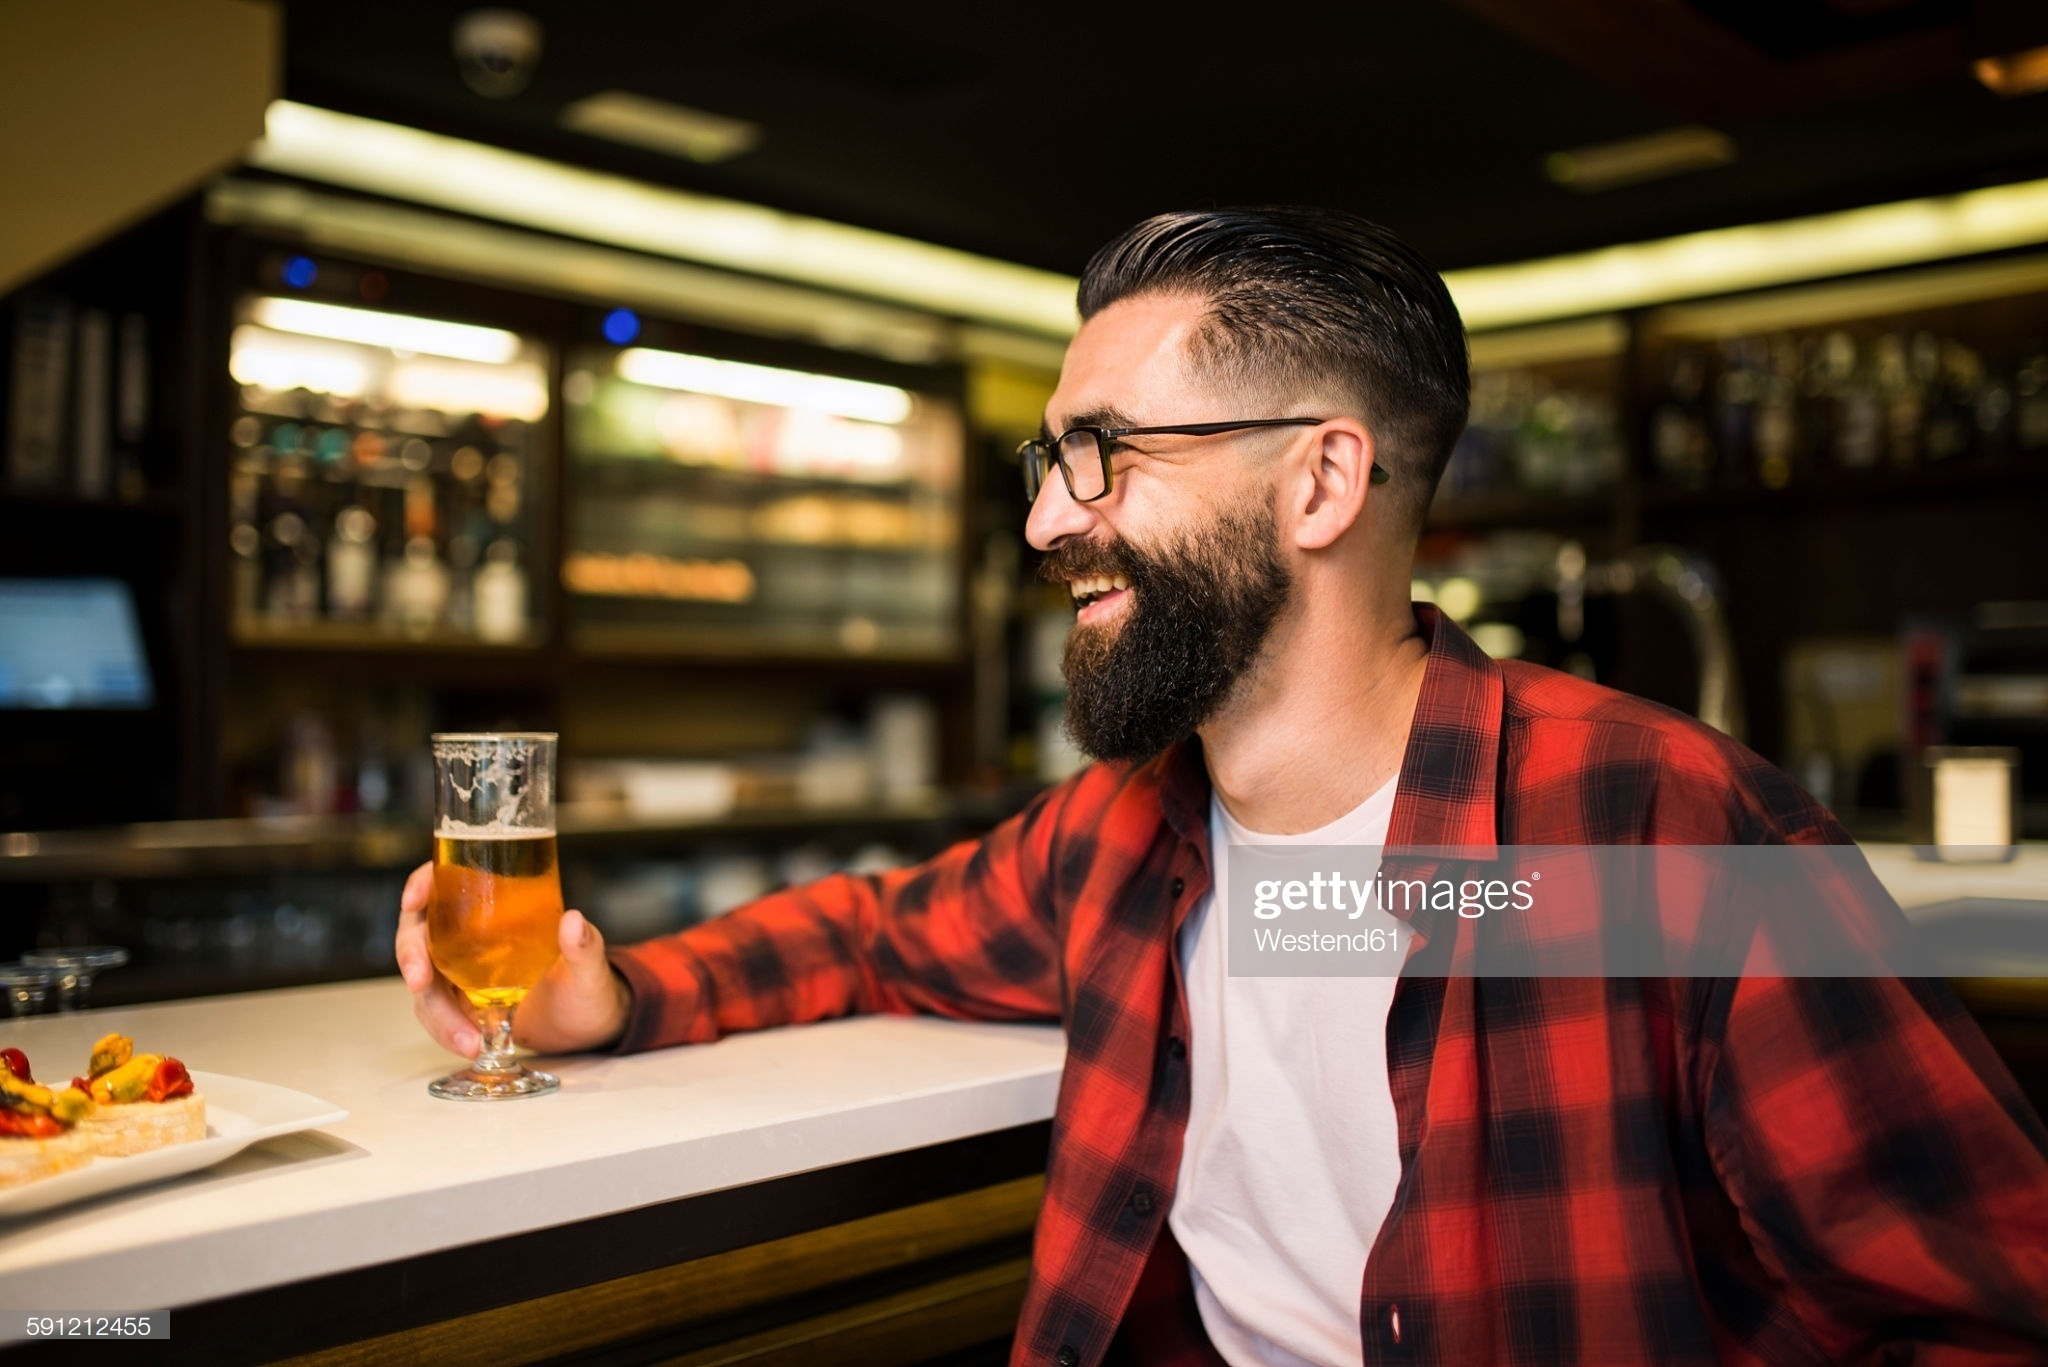whiskey: (427, 729, 573, 1054)
